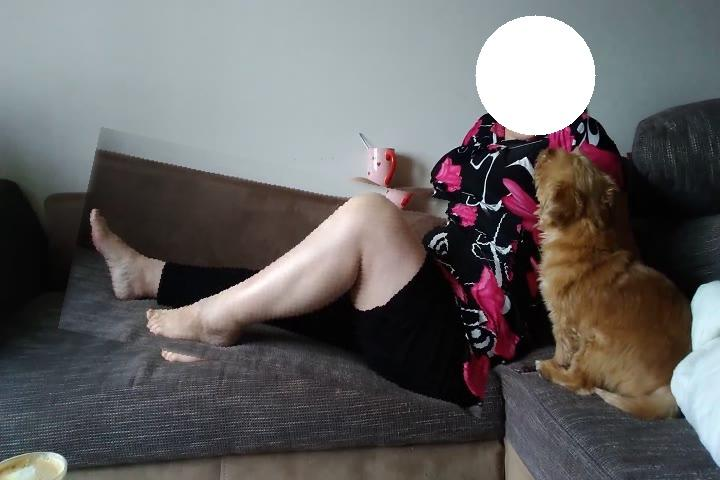lower_body: (68, 150, 516, 398)
